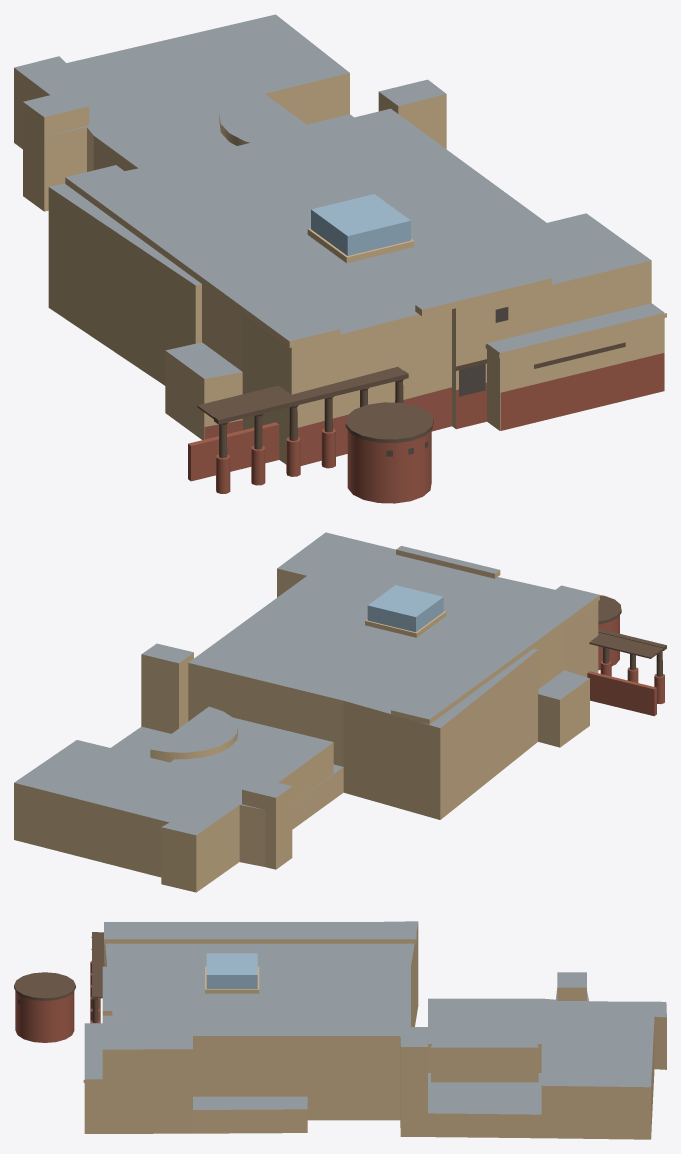
The model's file is indy-eiteljorg-museum.glb.
3 views of the same model, one above another, from view 1: azimuth 30°, elevation 25°; view 2: azimuth 150°, elevation 25°; view 3: azimuth 270°, elevation 25° (orthographic). The views are drawn at different scales.
Visible parts, largest first — view 1: Eiteljorg Museum; view 2: Eiteljorg Museum; view 3: Eiteljorg Museum.
Part boxes in pixels (box(x1,y1,x2,y2)): Eiteljorg Museum: box(14, 14, 666, 503); Eiteljorg Museum: box(14, 532, 666, 892); Eiteljorg Museum: box(14, 921, 666, 1139).
Bounding box in the file's own units: 66 × 19.9 × 115.
